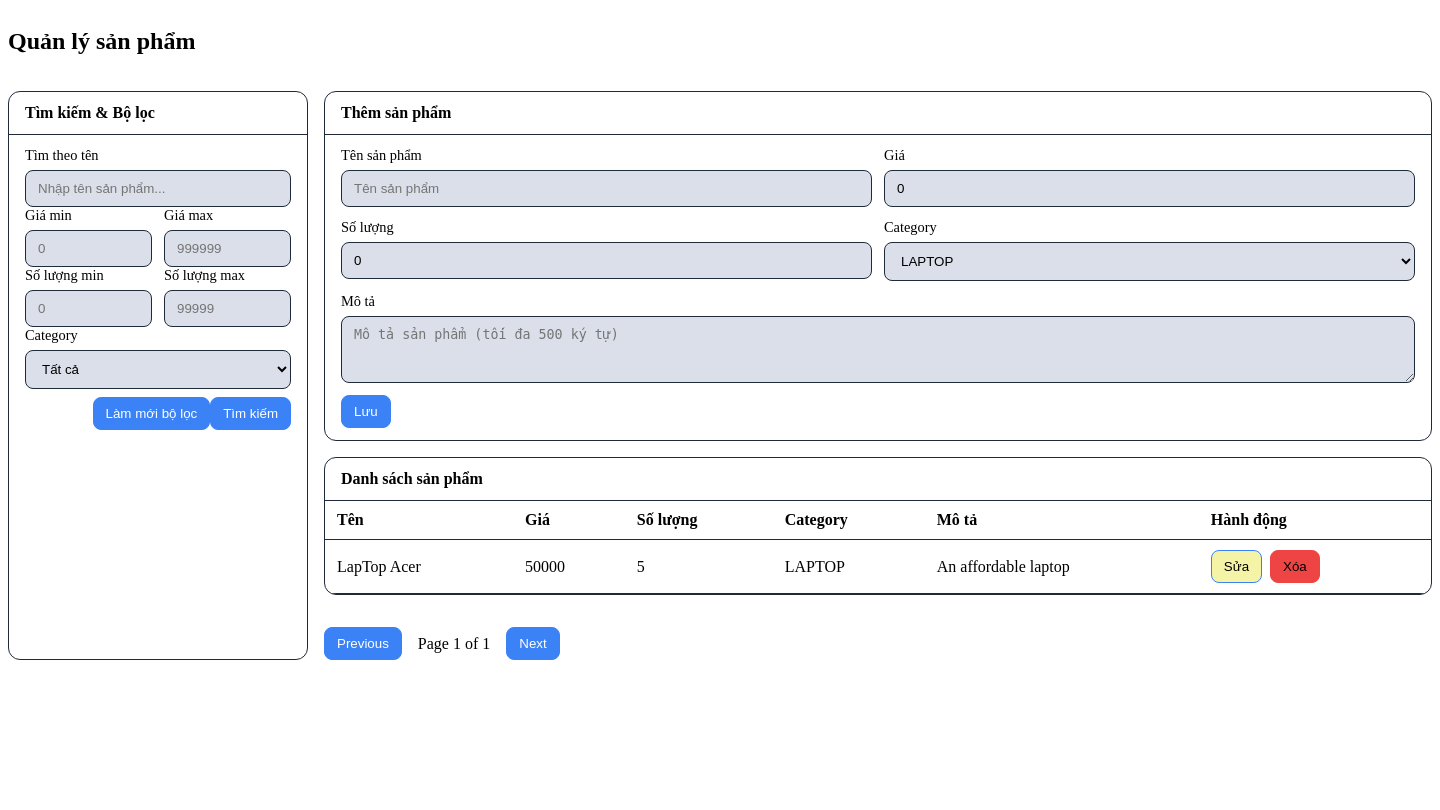
Scenario: Product Component Integration Tests (Form -> List) › TC-INT-02: Xóa sản phẩm phải gọi service và xóa khỏi danh sách
Check: the text "LapTop Acer" is shown, box [325, 539, 513, 594]
Click the button "Xóa": (1295, 566) [1270, 550, 1320, 583]
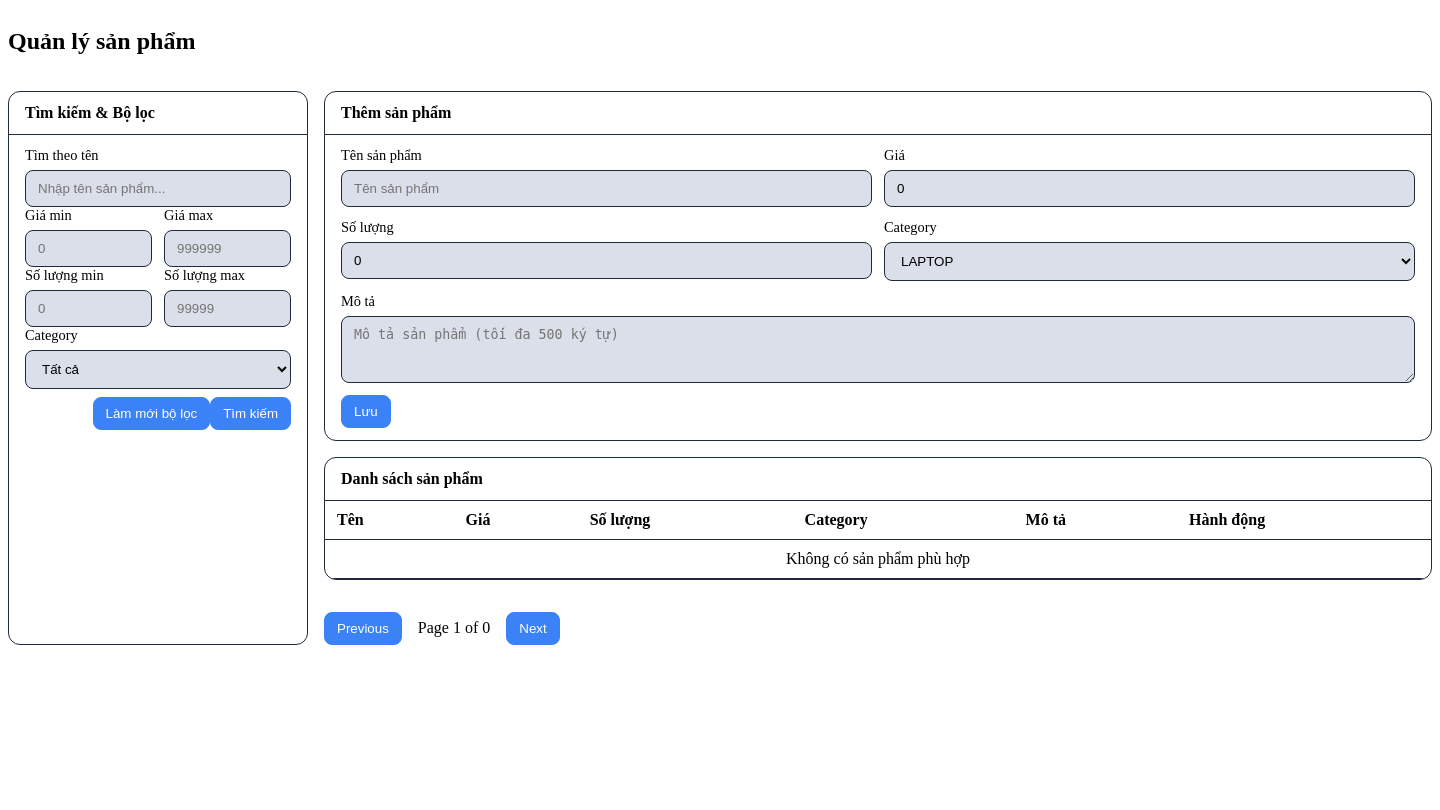
Check: the text "LapTop Acer" is gone
